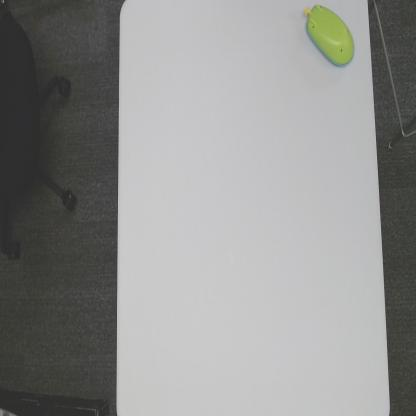Boat: (300, 0, 358, 75)
